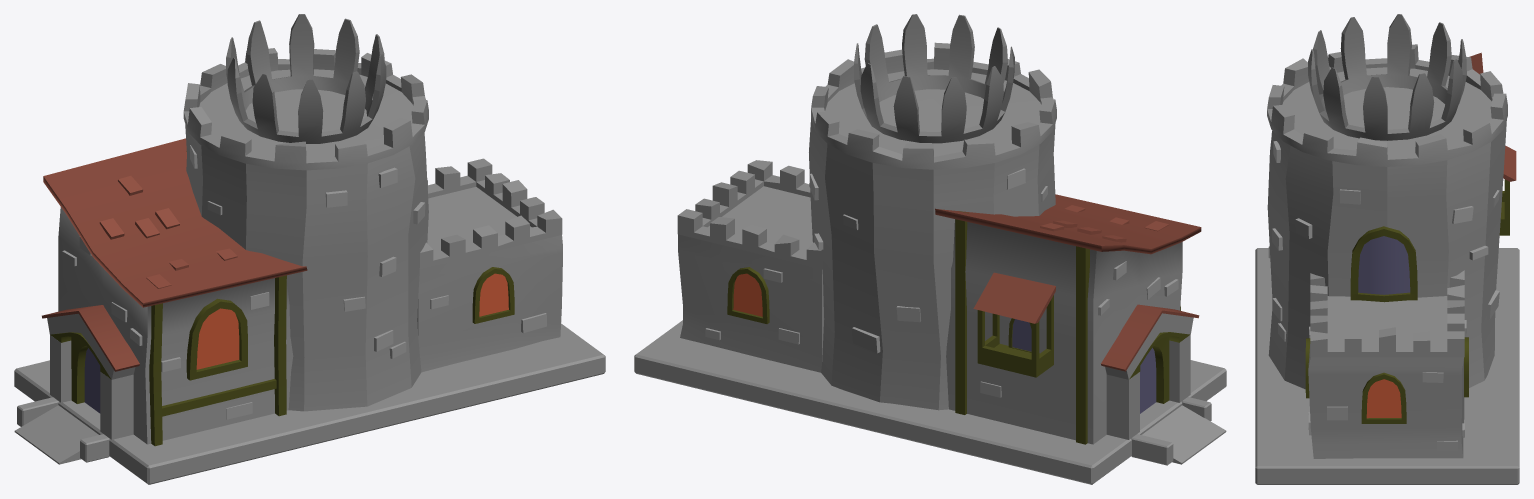
File: Fire_Tower.fbx
3 renders of one model, left to right at view 1: azimuth 30°, elevation 25°; view 2: azimuth 150°, elevation 25°; view 3: azimuth 270°, elevation 25°, orthographic. The views are drawn at different scales.
Visible parts, largest first — view 1: Fire_Tower; view 2: Fire_Tower; view 3: Fire_Tower.
Boxes of the visible parts, left/top/right/bottom form: Fire_Tower: left=14, top=14, right=605, bottom=484; Fire_Tower: left=634, top=14, right=1226, bottom=484; Fire_Tower: left=1255, top=14, right=1519, bottom=484.
Bounding box in the file's own units: 27.14 × 17.34 × 12.61.
